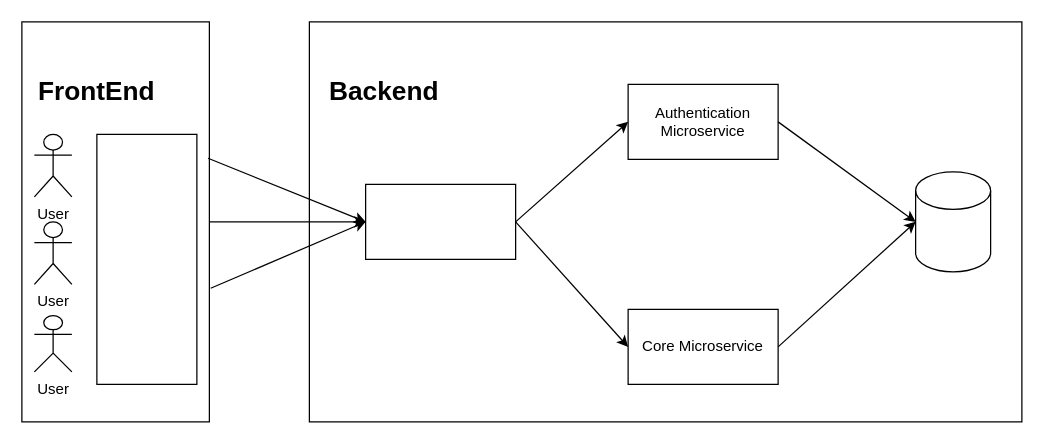
This 1044x444 diagram has some shape labels left out. The shapes that lost their labels are listed below. From the top down, each one's centre as x and y in pixels, then its label:
(x=440, y=221): API Gateway
(x=952, y=221): BlogFlow Database
(x=146, y=258): Web Page
